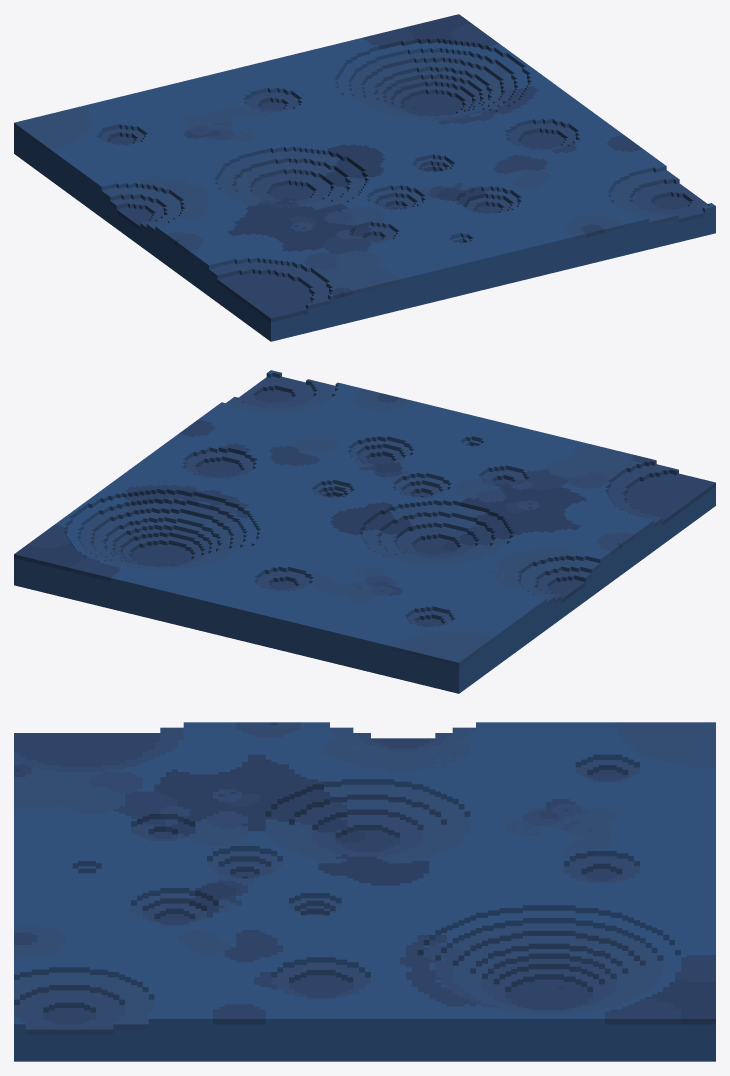
Rendered from LunarSurface.obj.
The picture shows the model from 3 angles, top to bottom: view 1: azimuth 30°, elevation 25°; view 2: azimuth 150°, elevation 25°; view 3: azimuth 270°, elevation 25°; orthographic projection. The views are drawn at different scales.
Parts seen in each view (by area): view 1: LunarSurface; view 2: LunarSurface; view 3: LunarSurface.
Part boxes in pixels (x1,y1,x2,y2): LunarSurface: (14, 14, 715, 341); LunarSurface: (14, 370, 715, 693); LunarSurface: (14, 722, 715, 1061).
Bounding box in the file's own units: 120 × 8 × 120.
Materials: 1 (1 with a texture image).
